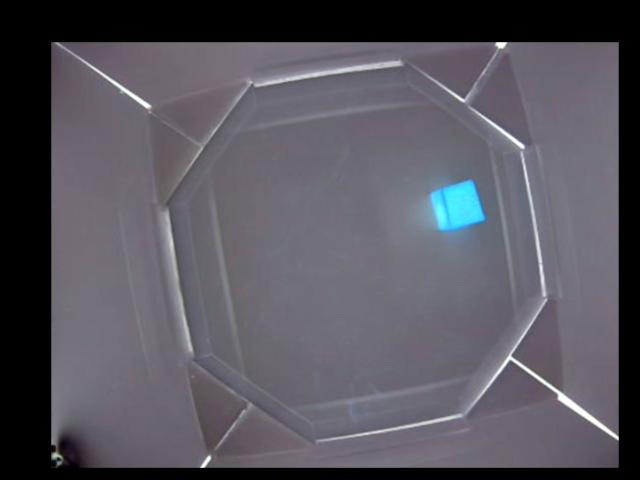Carrot: (432, 179, 484, 231)
